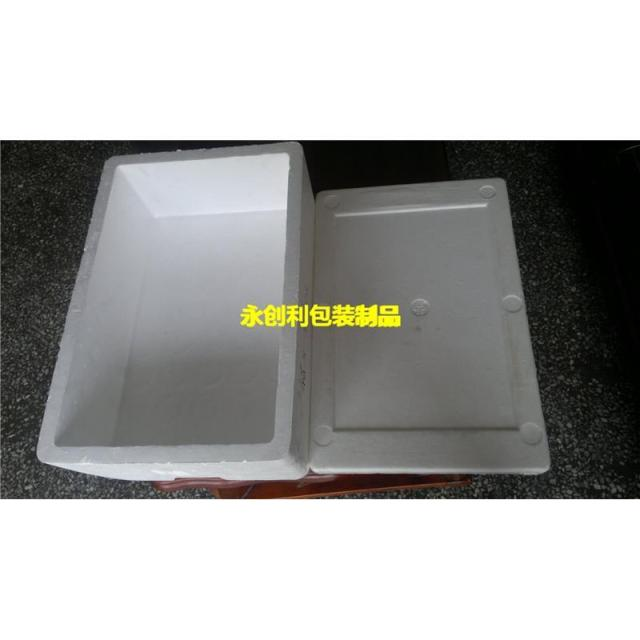styrofoam: (35, 142, 551, 494), (309, 175, 551, 478)
